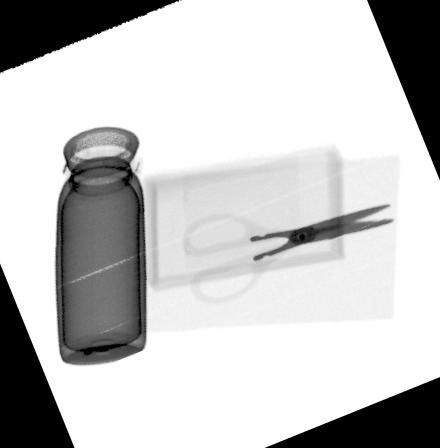Scissors: (180, 205, 394, 304)
